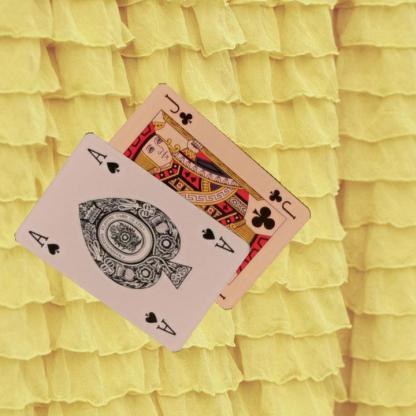As: (199, 225, 236, 255), (26, 227, 61, 257)
Jc: (266, 186, 298, 221)
